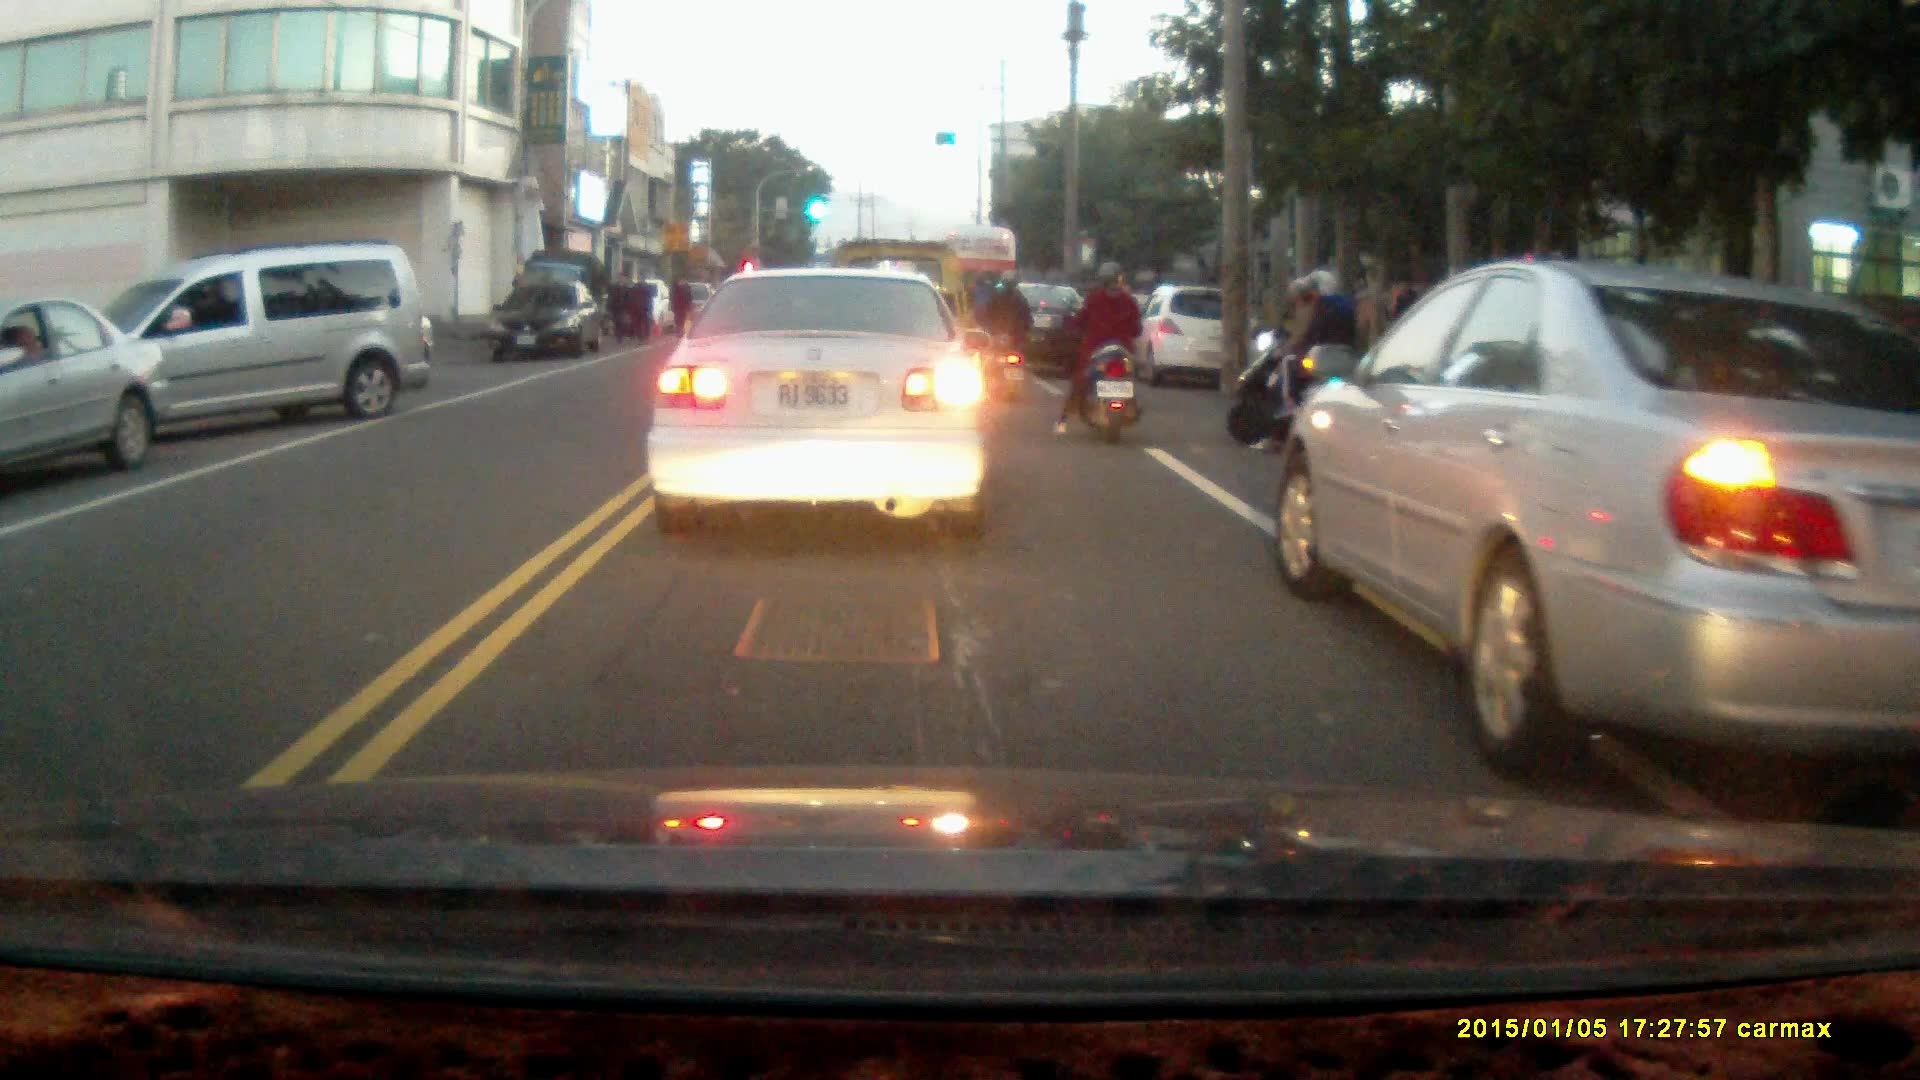pedestrian: (1388, 273, 1423, 362), (604, 271, 632, 348), (627, 272, 653, 348), (666, 272, 694, 340)
rider: (1227, 265, 1367, 455), (1049, 261, 1145, 445), (963, 269, 1029, 396)
vehicle: (1274, 256, 1920, 766), (652, 270, 994, 552), (63, 248, 427, 453), (1, 298, 171, 495), (1131, 284, 1254, 395), (970, 285, 1109, 382), (493, 279, 611, 364)
